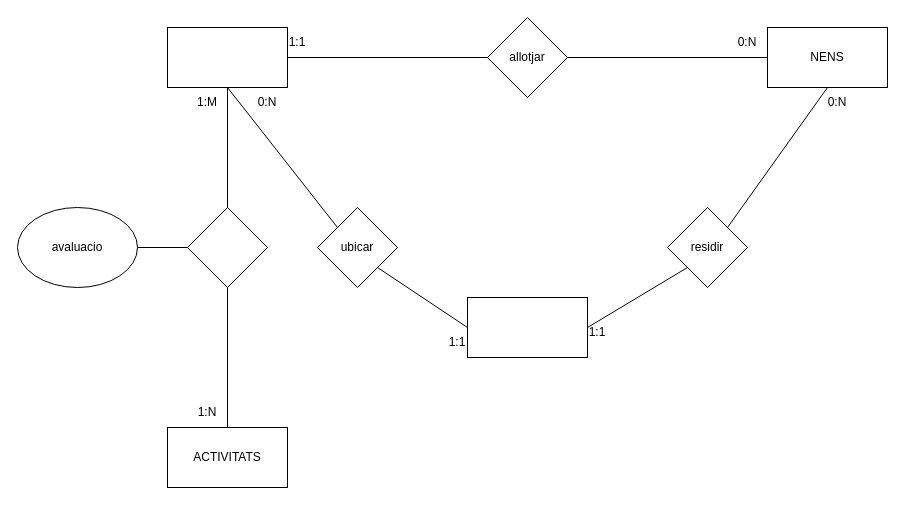
Some shapes in this 905 by 505 pixel diagram are drawn without their labels. Each missing label, with the centre of its shape:
CASAS: pixel 227 57
COMARQUES: pixel 527 327
oferir: pixel 227 247
